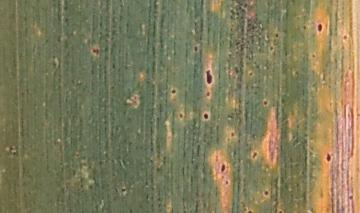tarspot: (203, 68, 216, 87), (263, 42, 280, 53), (312, 21, 326, 34), (217, 160, 228, 175), (321, 151, 334, 163), (227, 127, 239, 140), (297, 21, 311, 32), (199, 110, 211, 122), (89, 45, 101, 56), (271, 29, 282, 41), (260, 97, 271, 108), (189, 43, 201, 53), (261, 186, 269, 200), (167, 85, 177, 96), (339, 33, 351, 42), (344, 193, 356, 202), (221, 179, 233, 188), (175, 109, 184, 120), (249, 149, 258, 159), (245, 205, 255, 213)
